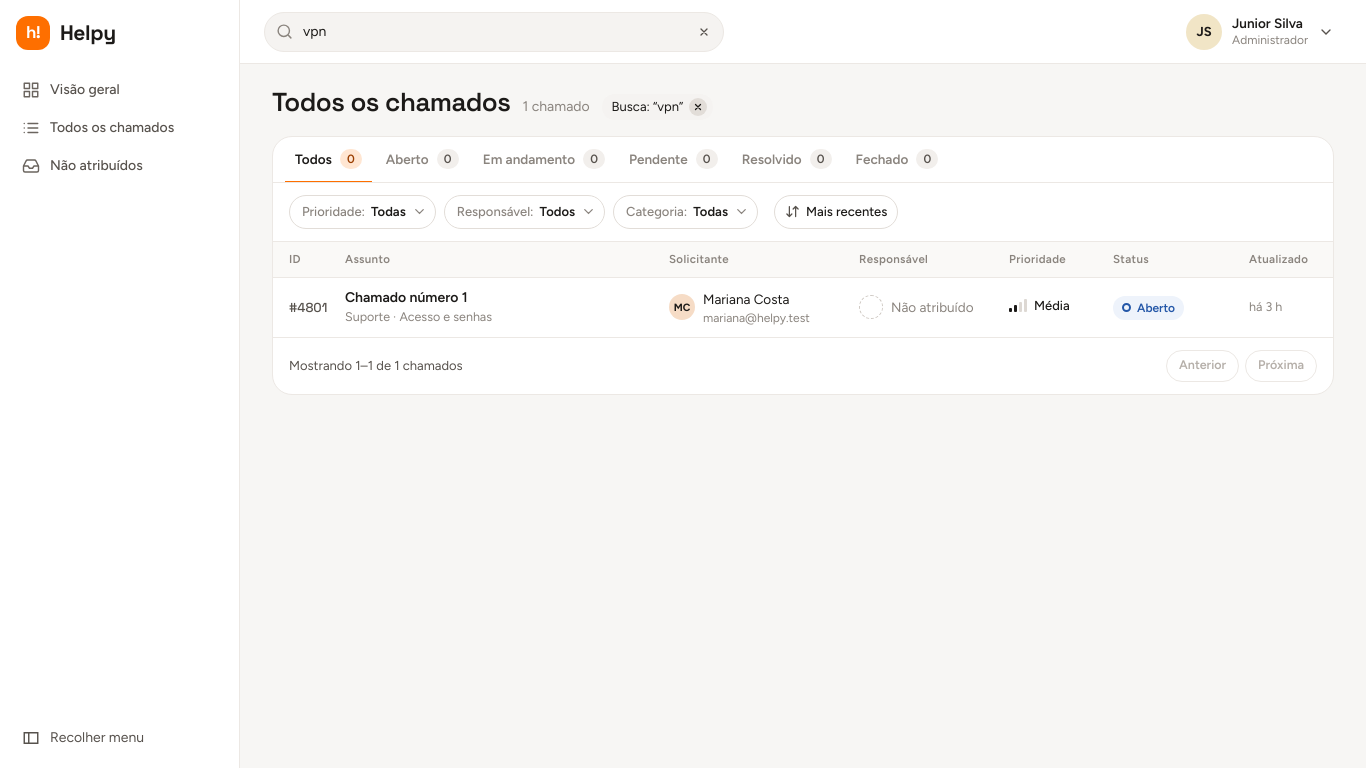
Test: header search › follows q when the list changes it (the chip next to the title)
This screenshot has width=1366, height=768.
Check: the search field named "Pesquisar chamados" holds "vpn", box [264,12,724,52]
Click the button named "Limpar busca".
click(698, 107)  # box [689,98,707,116]
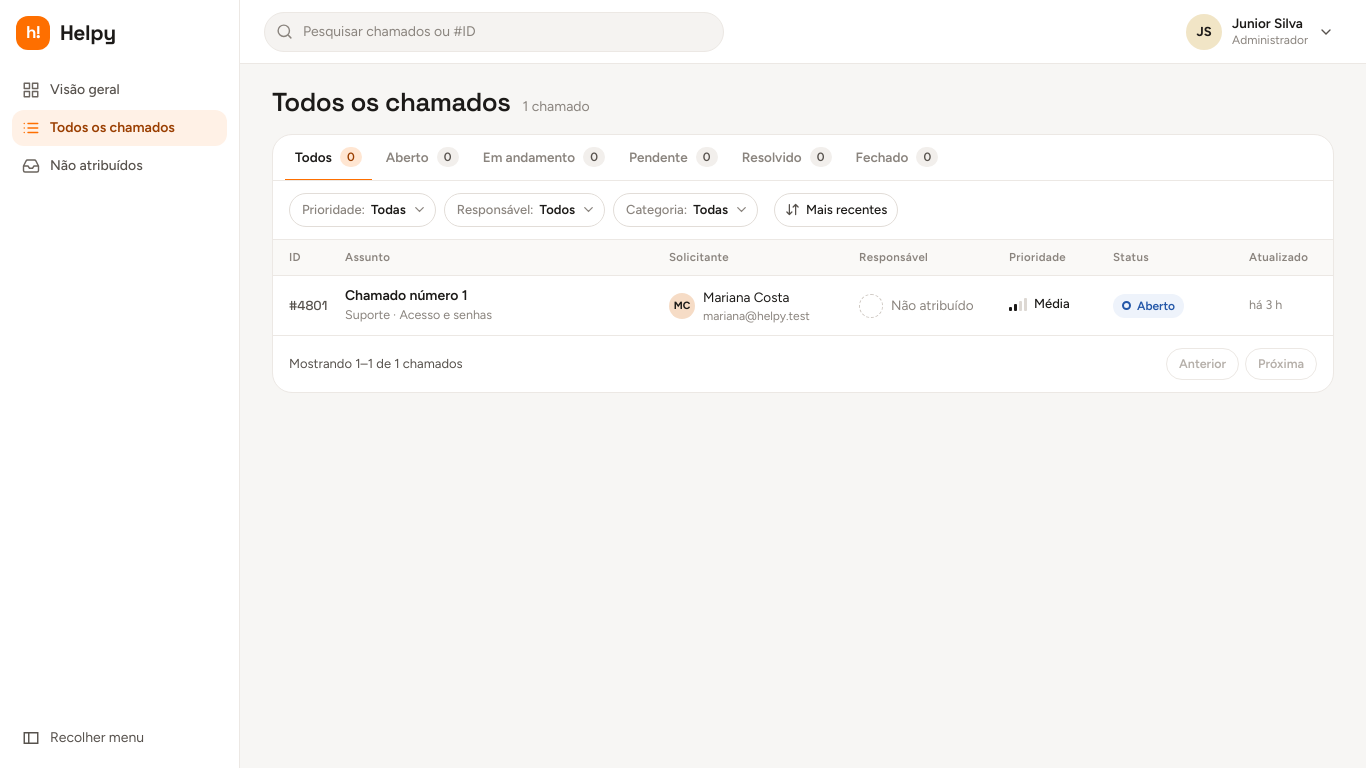
Check: the search field is empty, box [264,12,724,52]
